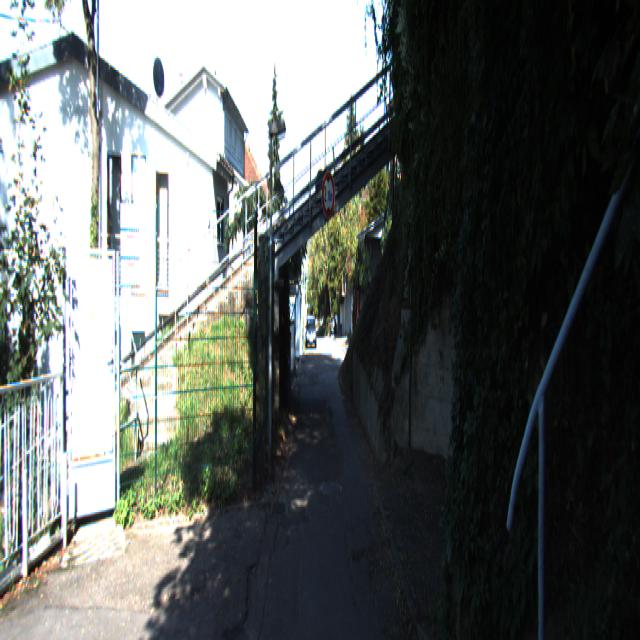Car: (305, 313, 316, 346)
